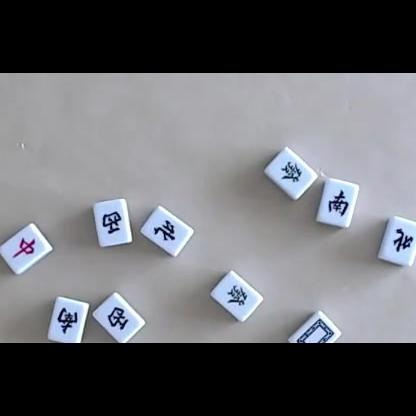2z: (328, 189, 349, 216), (57, 308, 78, 334)
3z: (107, 307, 129, 331), (101, 211, 122, 235)
4z: (153, 220, 177, 243), (393, 227, 413, 252)
5z: (296, 319, 334, 343)
6z: (281, 160, 302, 183), (227, 284, 248, 307)
7z: (12, 237, 35, 258)
